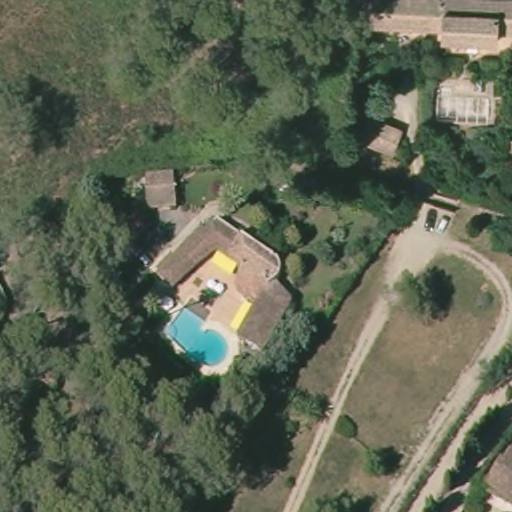pool: (163, 305, 232, 370)
